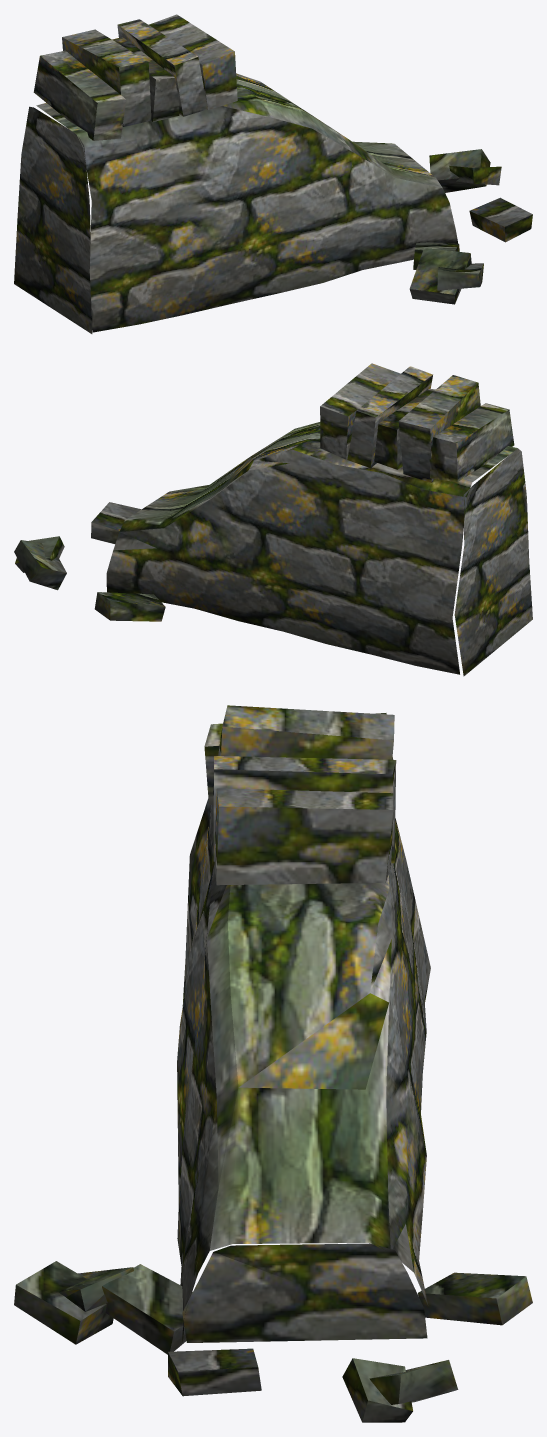
Rendered from wall_drystone_end_broken.glb.
3 views of the same model, one above another, from view 1: azimuth 30°, elevation 25°; view 2: azimuth 150°, elevation 25°; view 3: azimuth 270°, elevation 25° (orthographic). The views are drawn at different scales.
Visible parts, largest first — view 1: wall_drystone_end_broken; view 2: wall_drystone_end_broken; view 3: wall_drystone_end_broken.
Part boxes in pixels (x1=…): wall_drystone_end_broken: x1=14, y1=14, x2=532, y2=333; wall_drystone_end_broken: x1=14, y1=363, x2=532, y2=676; wall_drystone_end_broken: x1=14, y1=705, x2=532, y2=1422.
Size of the model in its own units: 2.62 by 1.39 by 1.59.
Materials: 1 (1 with a texture image).
